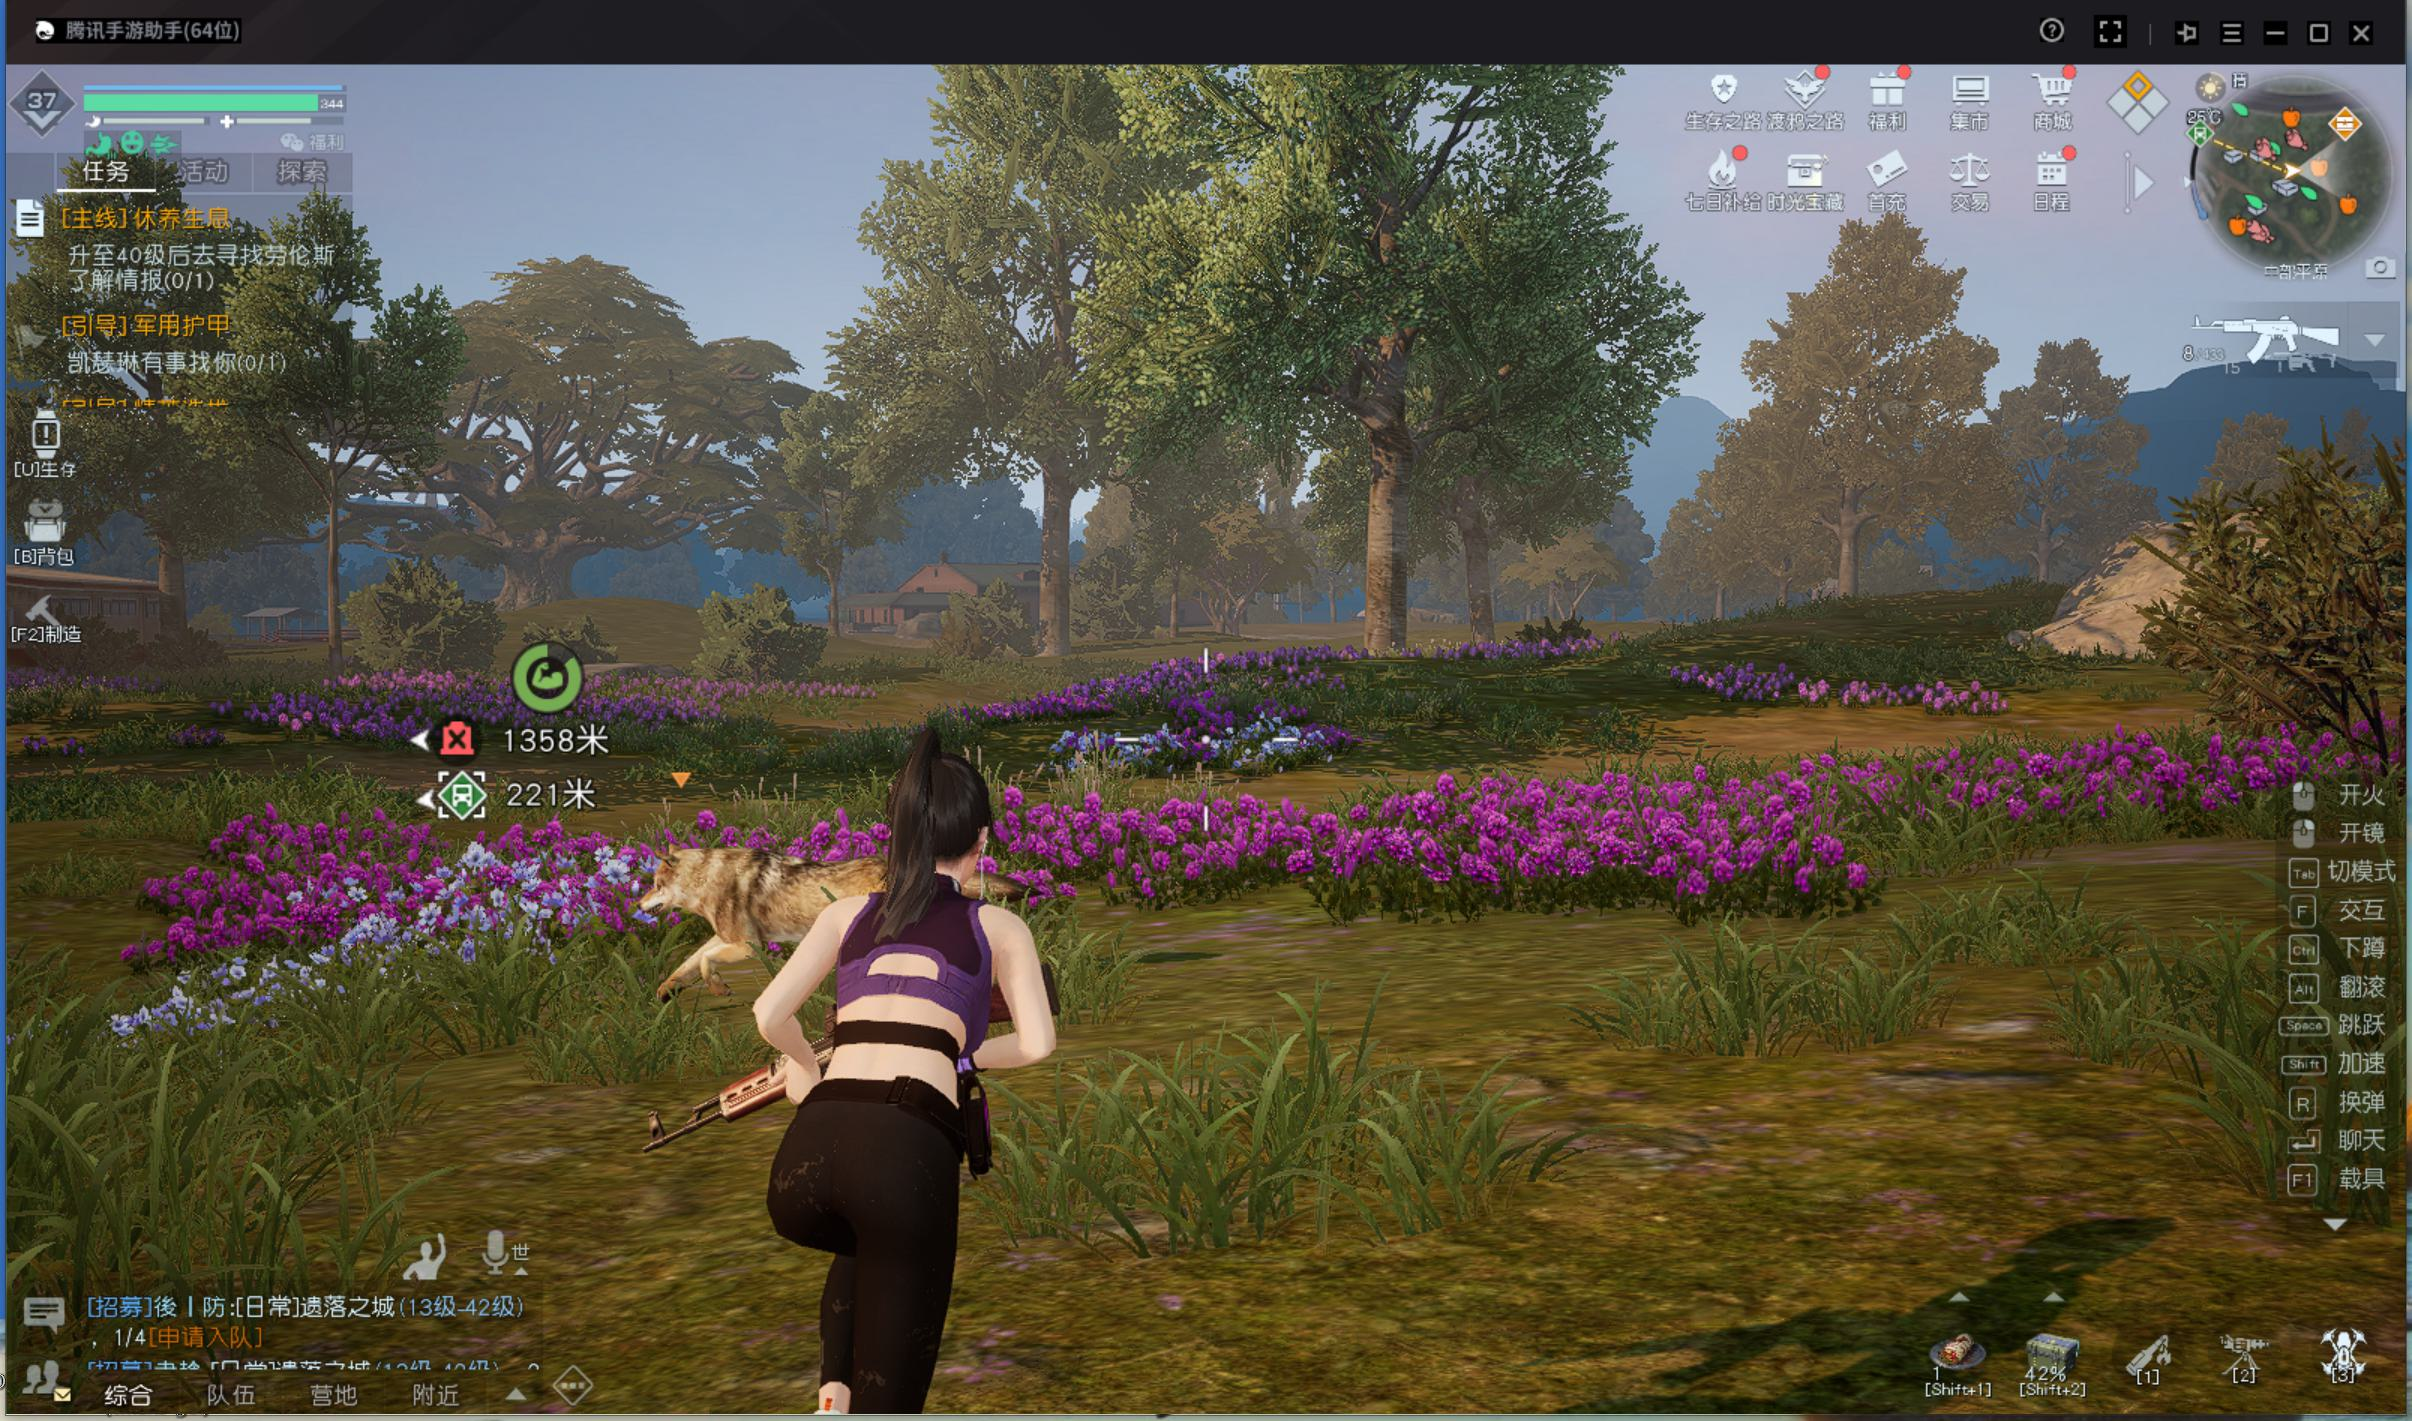tree: (1023, 492, 1083, 673), (1357, 497, 1417, 660), (147, 553, 200, 661), (1456, 563, 1504, 643), (323, 553, 352, 678), (1837, 518, 1862, 601)
